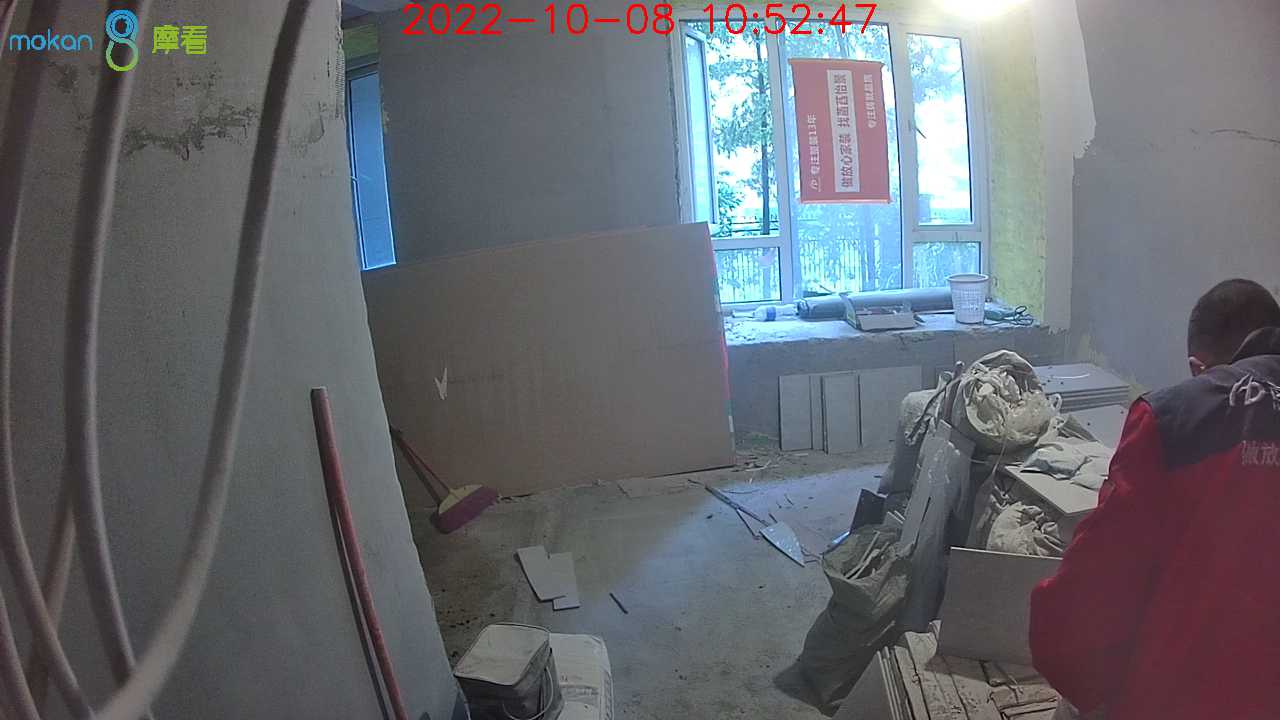people: (1030, 278, 1280, 719)
window: (679, 12, 987, 303)
